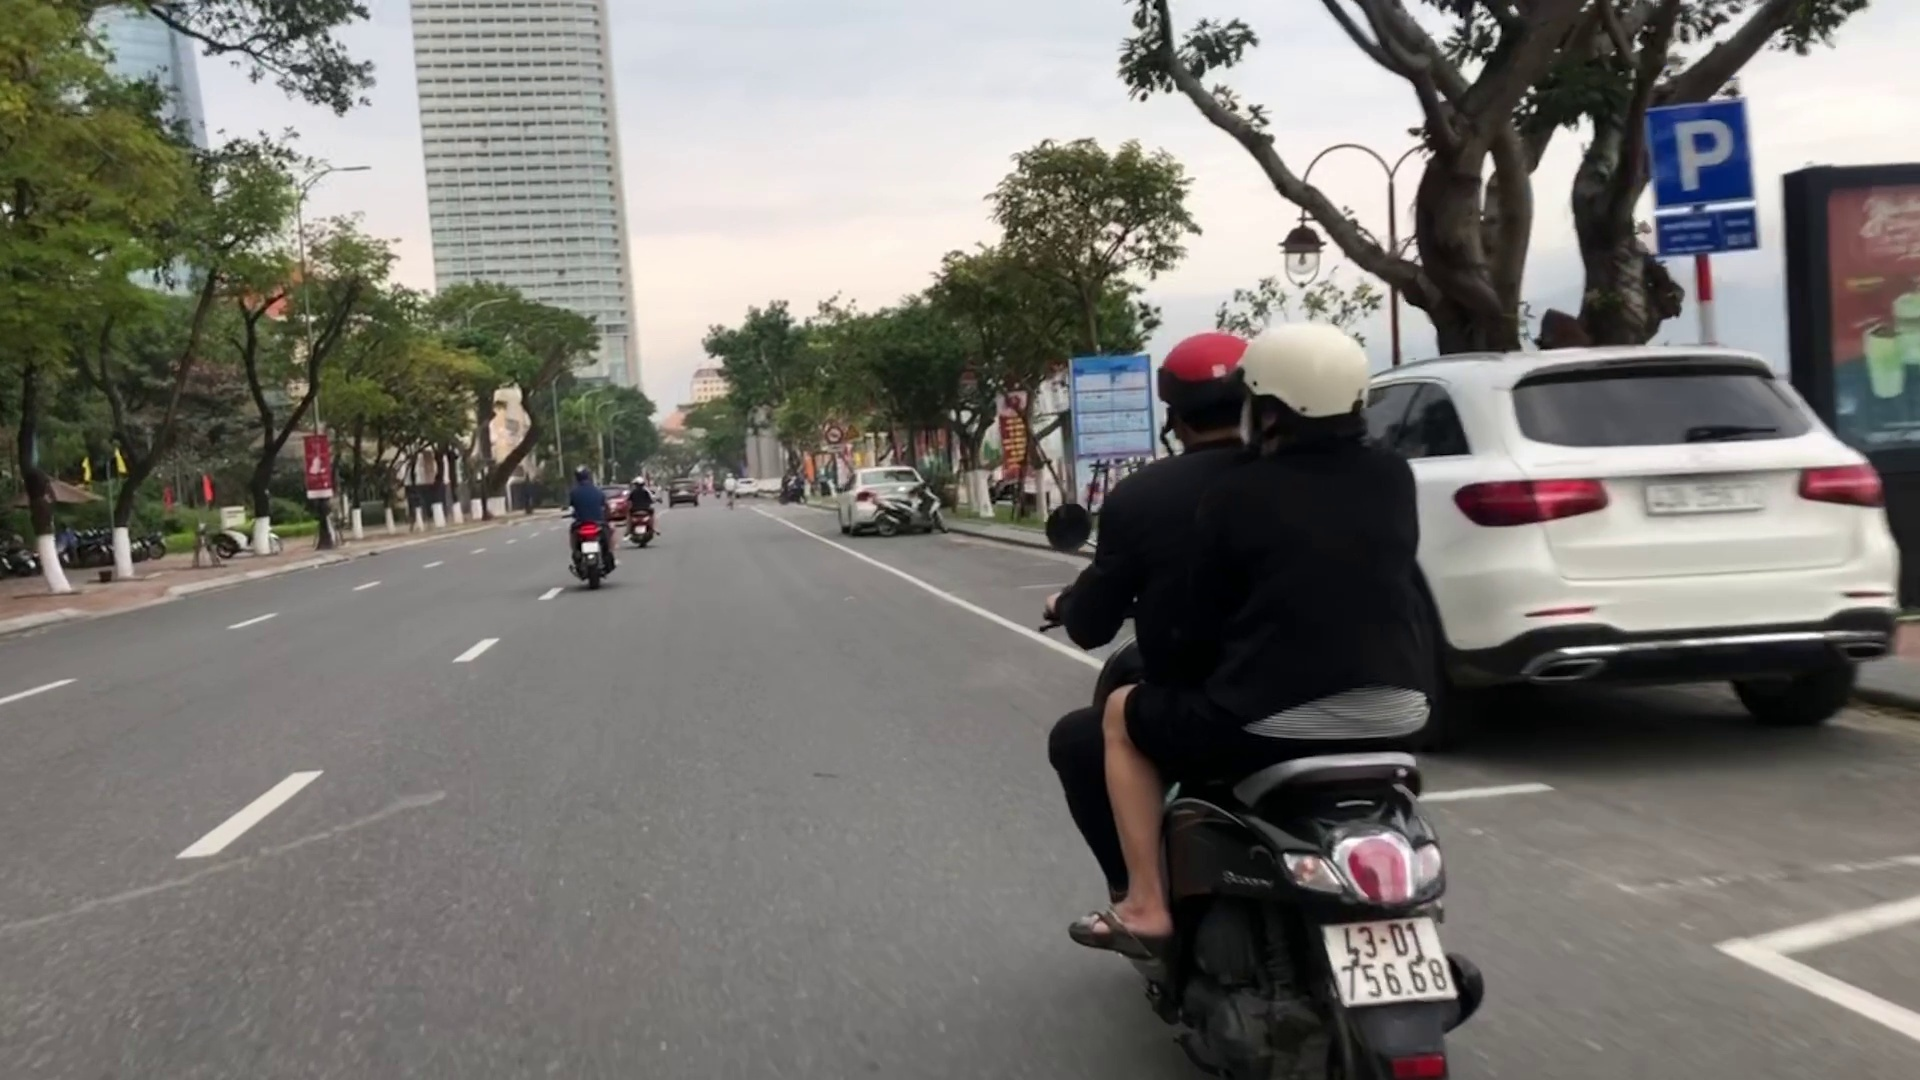Bien khac: (1643, 98, 1756, 211), (822, 421, 847, 448)
